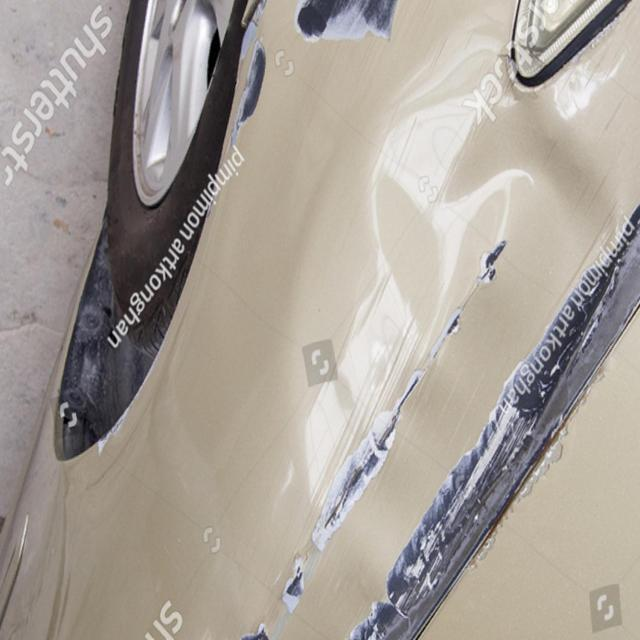scratch: (235, 178, 632, 640), (222, 2, 416, 140)
